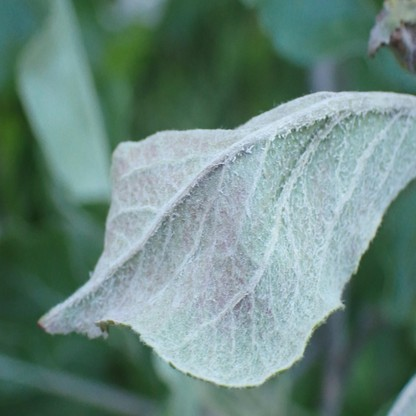powder: (38, 90, 416, 387)
